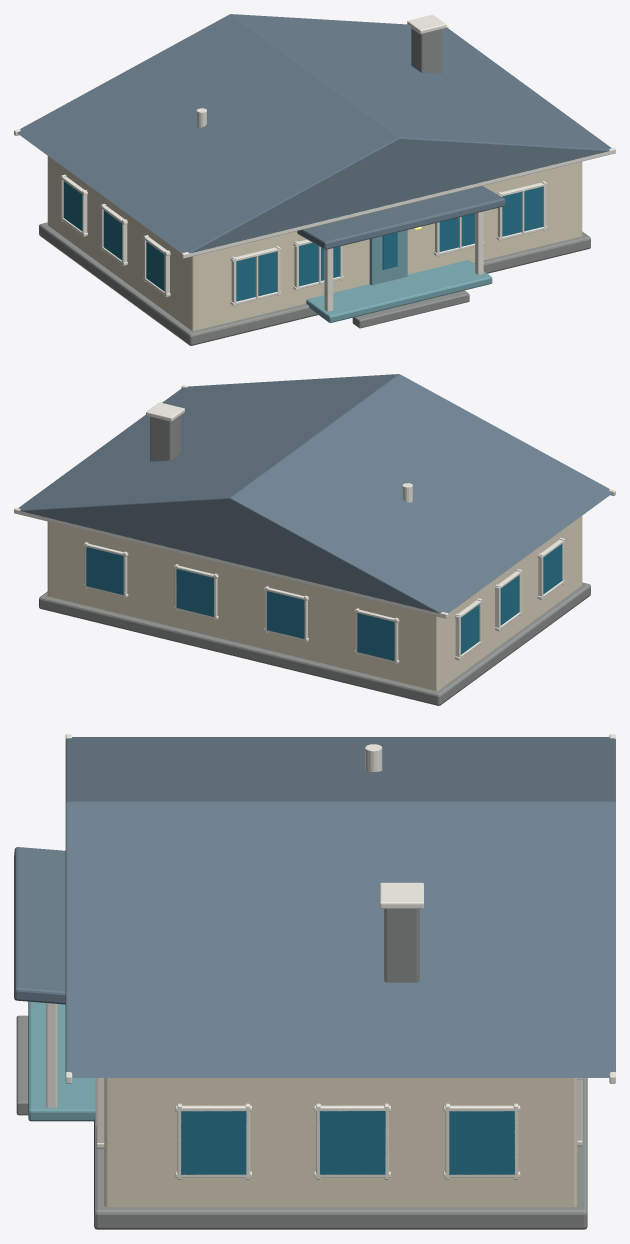
Rendered from SM_SolCity_SuburbanHouses_01.fbx.
3 renders of one model, top to bottom at view 1: azimuth 30°, elevation 25°; view 2: azimuth 150°, elevation 25°; view 3: azimuth 270°, elevation 25°, orthographic. The views are drawn at different scales.
Visible parts, largest first — view 1: SM_SolCity_SuburbanHouse_01; view 2: SM_SolCity_SuburbanHouse_01; view 3: SM_SolCity_SuburbanHouse_01.
Boxes of the visible parts, x1,y1,x2,y2 form: SM_SolCity_SuburbanHouse_01: [14, 14, 615, 345]; SM_SolCity_SuburbanHouse_01: [14, 374, 615, 705]; SM_SolCity_SuburbanHouse_01: [14, 734, 615, 1229].
Bounding box in the file's own units: 17.25 × 12.8 × 6.64.
